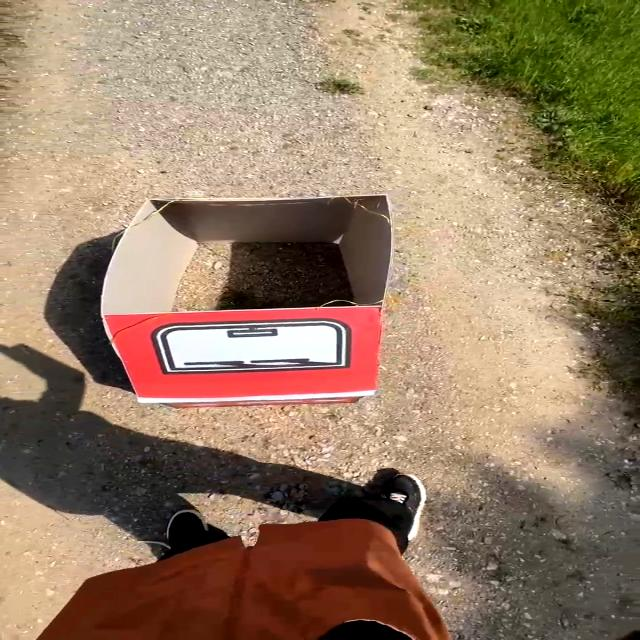red_car: (0, 179, 524, 440)
